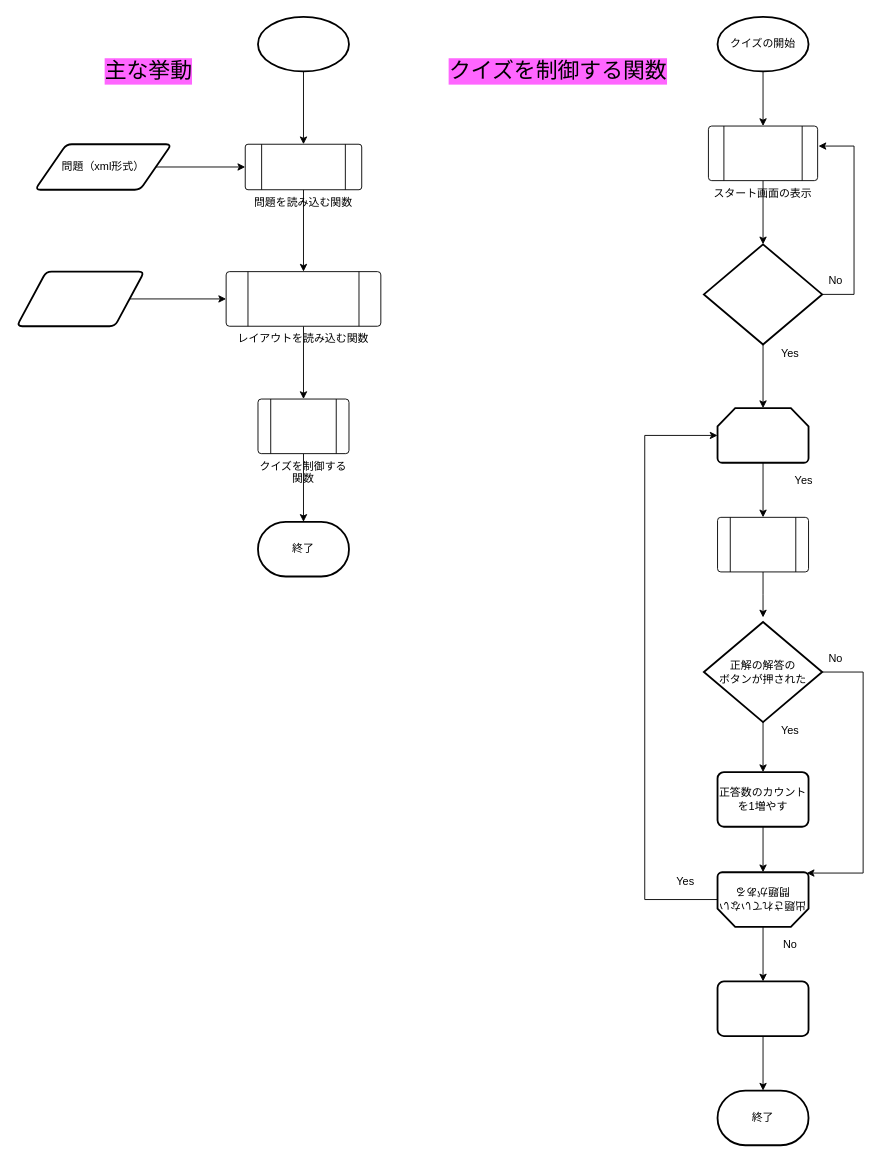
Some shapes in this 886 by 1161 pixel diagram are drawn without their labels. Here are the shapes that lost their labels. From the top down, the box of each, then its label:
(257, 15, 349, 72): アプリの起動
(15, 270, 145, 327): layout(xml形式)
(703, 243, 823, 345): スタートボタンが 押された
(716, 407, 809, 463): loop
(717, 516, 809, 572): 問題画面の表示
(716, 980, 809, 1036): 正答数を表示
